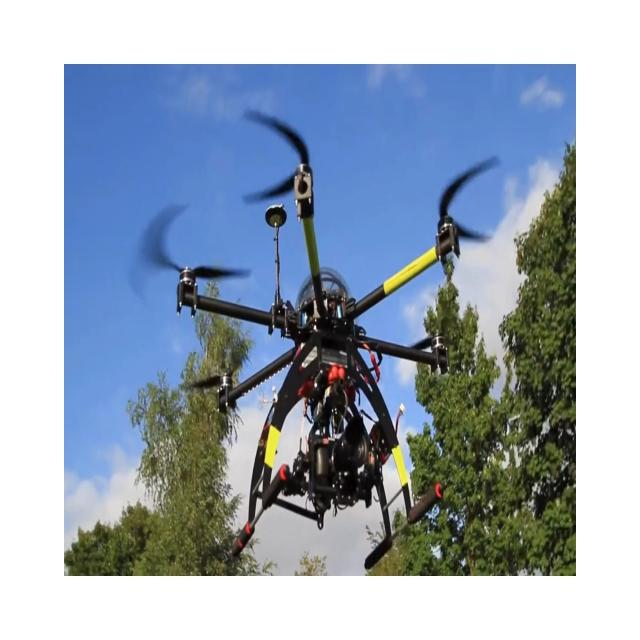drone: (132, 107, 501, 570)
